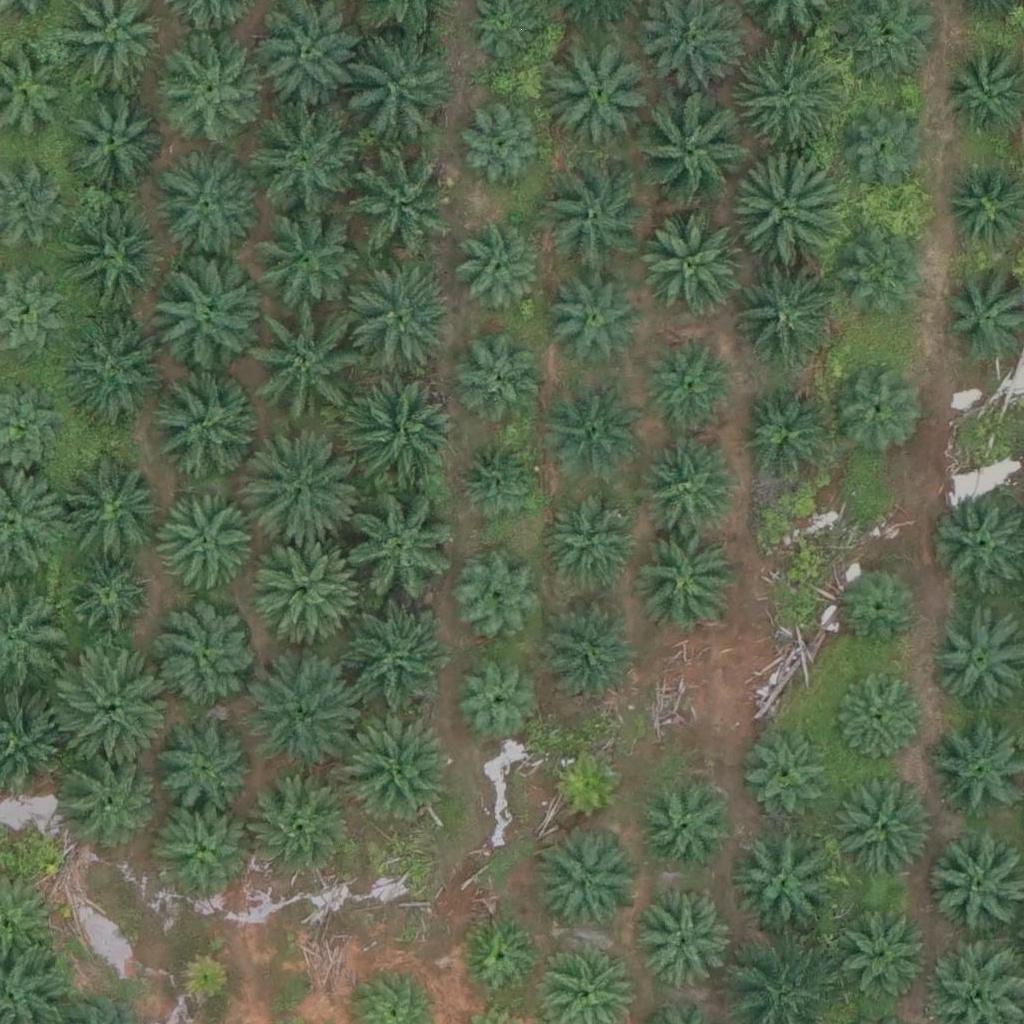Kelapa_Sawit: (249, 438, 362, 552), (725, 824, 838, 937), (347, 260, 460, 373), (343, 379, 456, 492), (336, 495, 449, 608), (143, 264, 256, 377), (727, 43, 840, 156), (335, 610, 447, 724), (339, 714, 451, 828), (241, 771, 353, 885), (644, 209, 756, 323), (58, 199, 170, 313), (730, 270, 842, 383), (249, 660, 361, 773), (249, 533, 361, 646), (256, 308, 368, 421), (141, 369, 253, 482), (59, 317, 171, 430), (56, 457, 168, 570), (56, 645, 168, 758), (734, 156, 846, 269), (635, 88, 747, 201), (545, 39, 657, 152), (534, 160, 646, 273), (340, 31, 452, 144), (345, 141, 457, 254), (247, 196, 359, 309), (246, 105, 358, 218), (153, 152, 265, 265), (639, 441, 739, 542), (635, 533, 735, 634), (636, 773, 736, 874), (636, 883, 736, 984), (540, 489, 640, 590), (541, 598, 641, 699), (534, 835, 634, 936), (155, 495, 255, 596), (155, 607, 255, 708), (157, 716, 257, 817), (52, 755, 152, 856), (161, 47, 261, 148), (57, 91, 157, 192), (836, 900, 936, 1000), (835, 776, 935, 876), (547, 263, 647, 363), (542, 392, 642, 492), (157, 802, 257, 902), (834, 667, 922, 756), (544, 739, 632, 827), (458, 910, 546, 998), (833, 370, 921, 458), (740, 730, 828, 818), (645, 337, 733, 425), (453, 655, 541, 743), (457, 547, 545, 635), (60, 553, 148, 641), (836, 565, 923, 653), (741, 393, 828, 481), (455, 439, 542, 527), (455, 334, 542, 422), (842, 104, 929, 192), (838, 220, 925, 308), (458, 222, 545, 310), (458, 98, 545, 186), (170, 950, 233, 1013)
